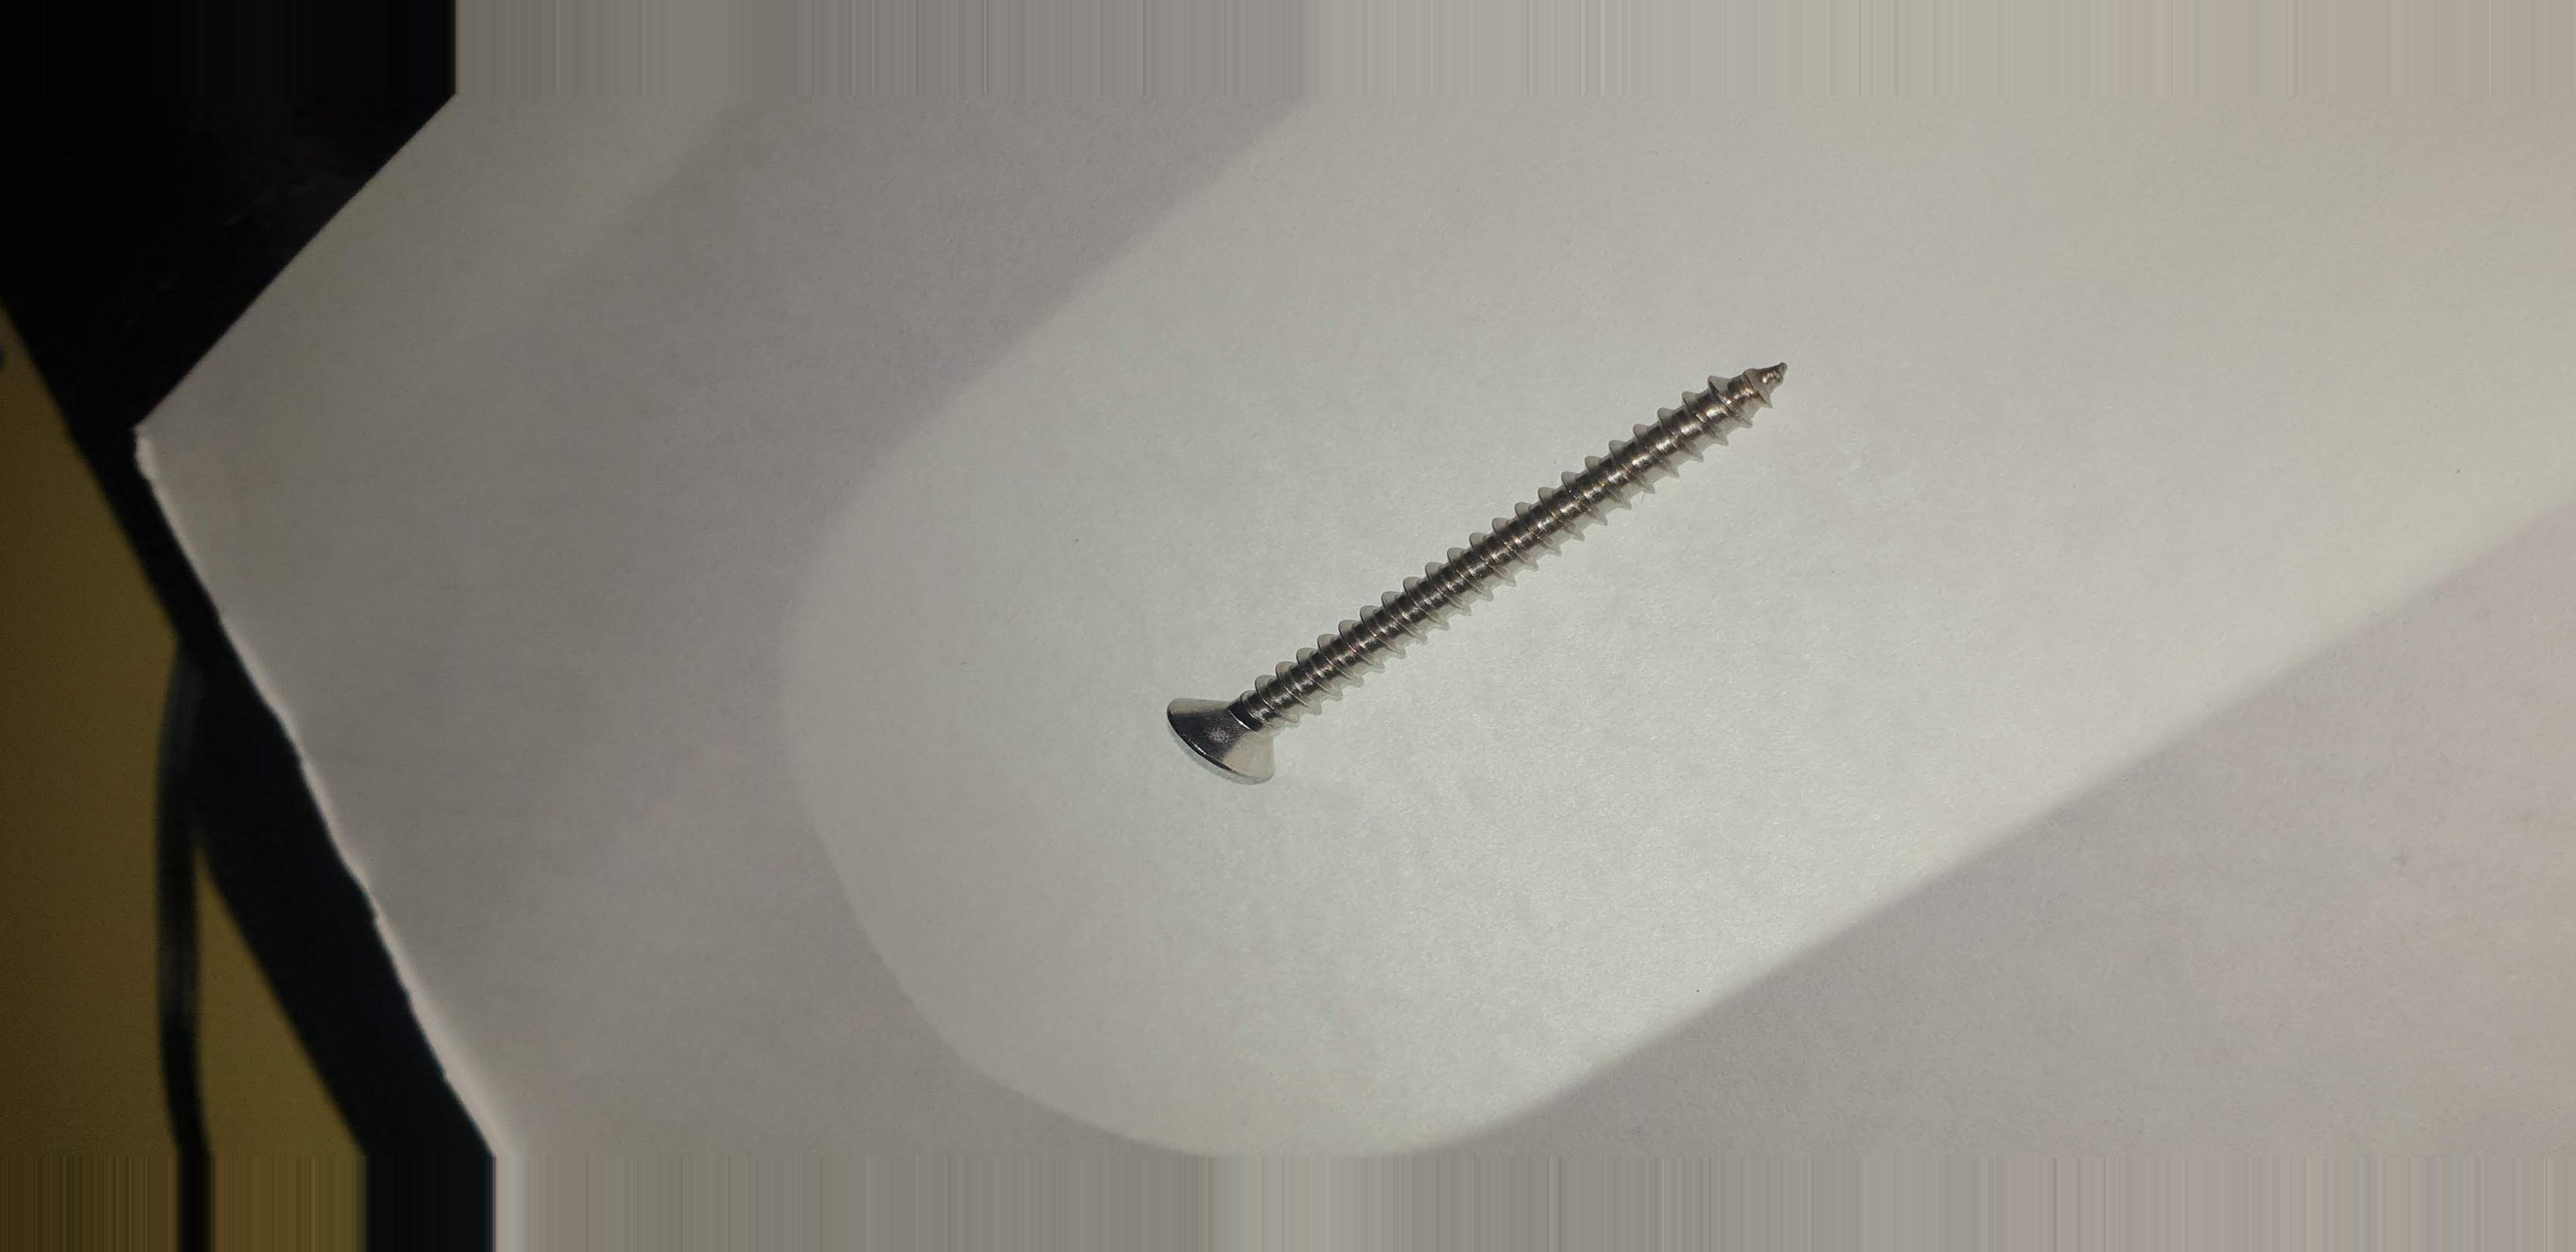fastener: (1024, 302, 1863, 861)
